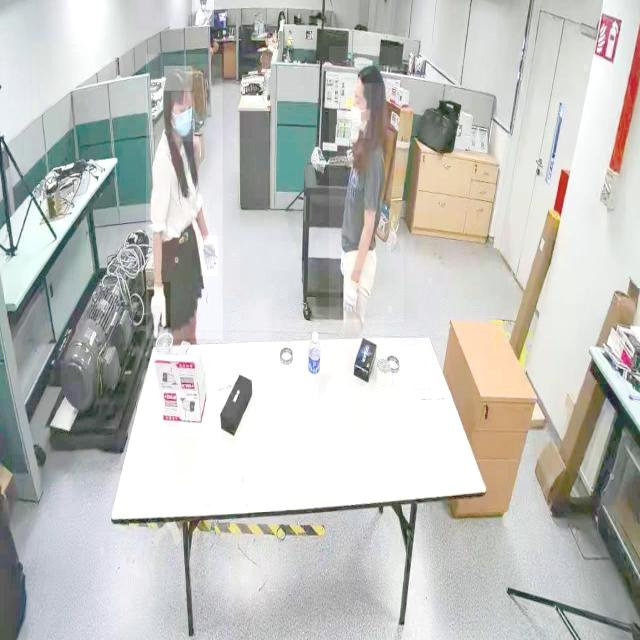face_mask: (346, 84, 372, 138), (172, 92, 194, 142)
hand_glove: (340, 270, 362, 320), (148, 282, 170, 332), (200, 236, 218, 276)
head_nohelmet: (164, 66, 192, 92), (356, 64, 386, 84)
person: (146, 54, 222, 340), (328, 46, 404, 324), (192, 0, 214, 28)
